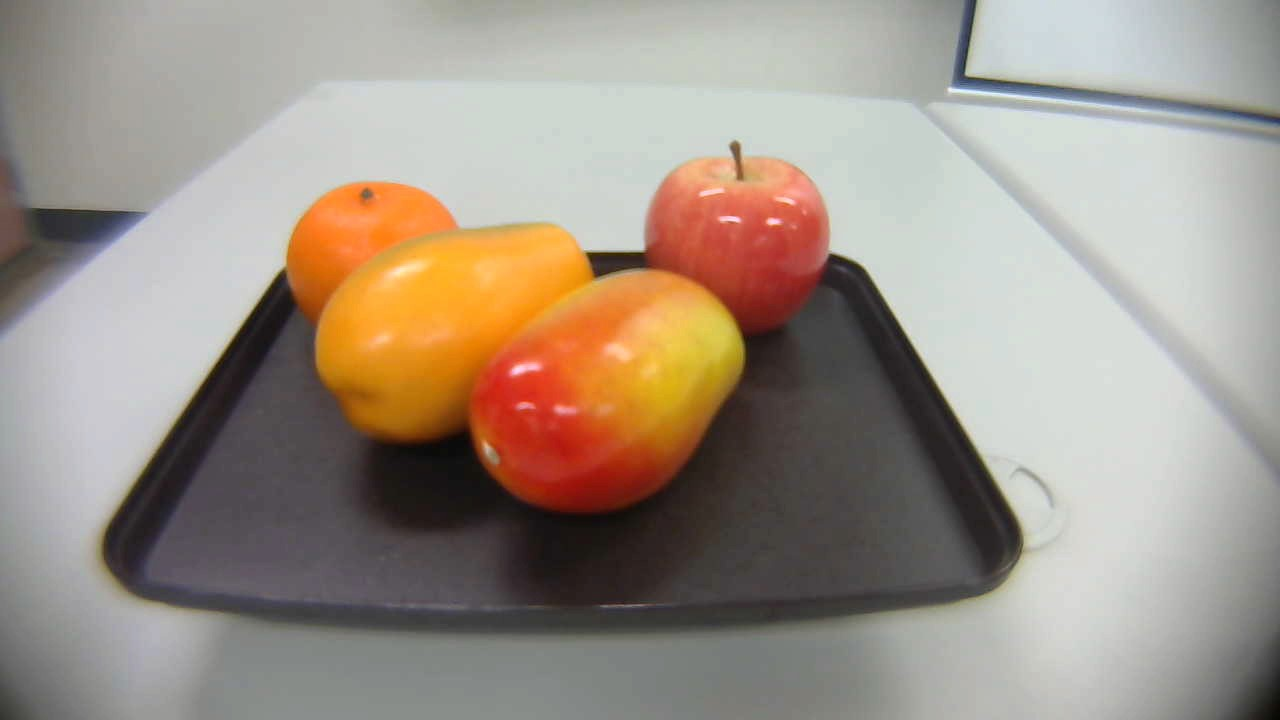orange: (278, 179, 460, 331)
papya: (307, 218, 615, 451)
red apple: (627, 139, 832, 343)
red mango: (472, 261, 752, 529)
